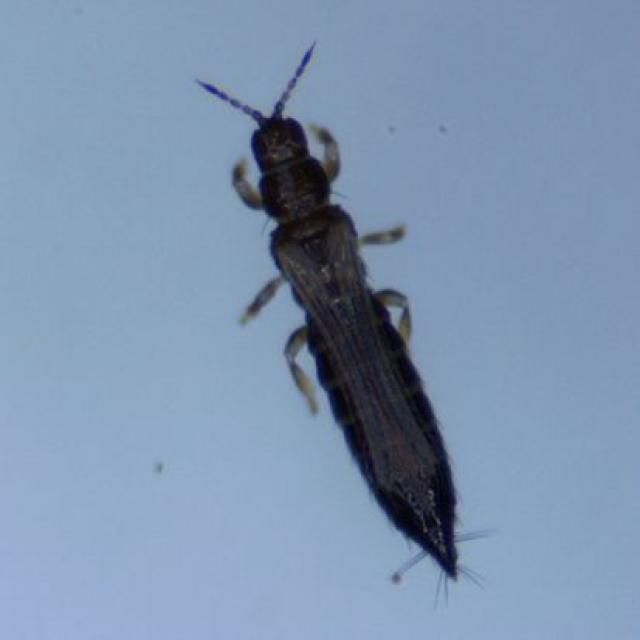Thrip-Adult-: (188, 13, 492, 598)
